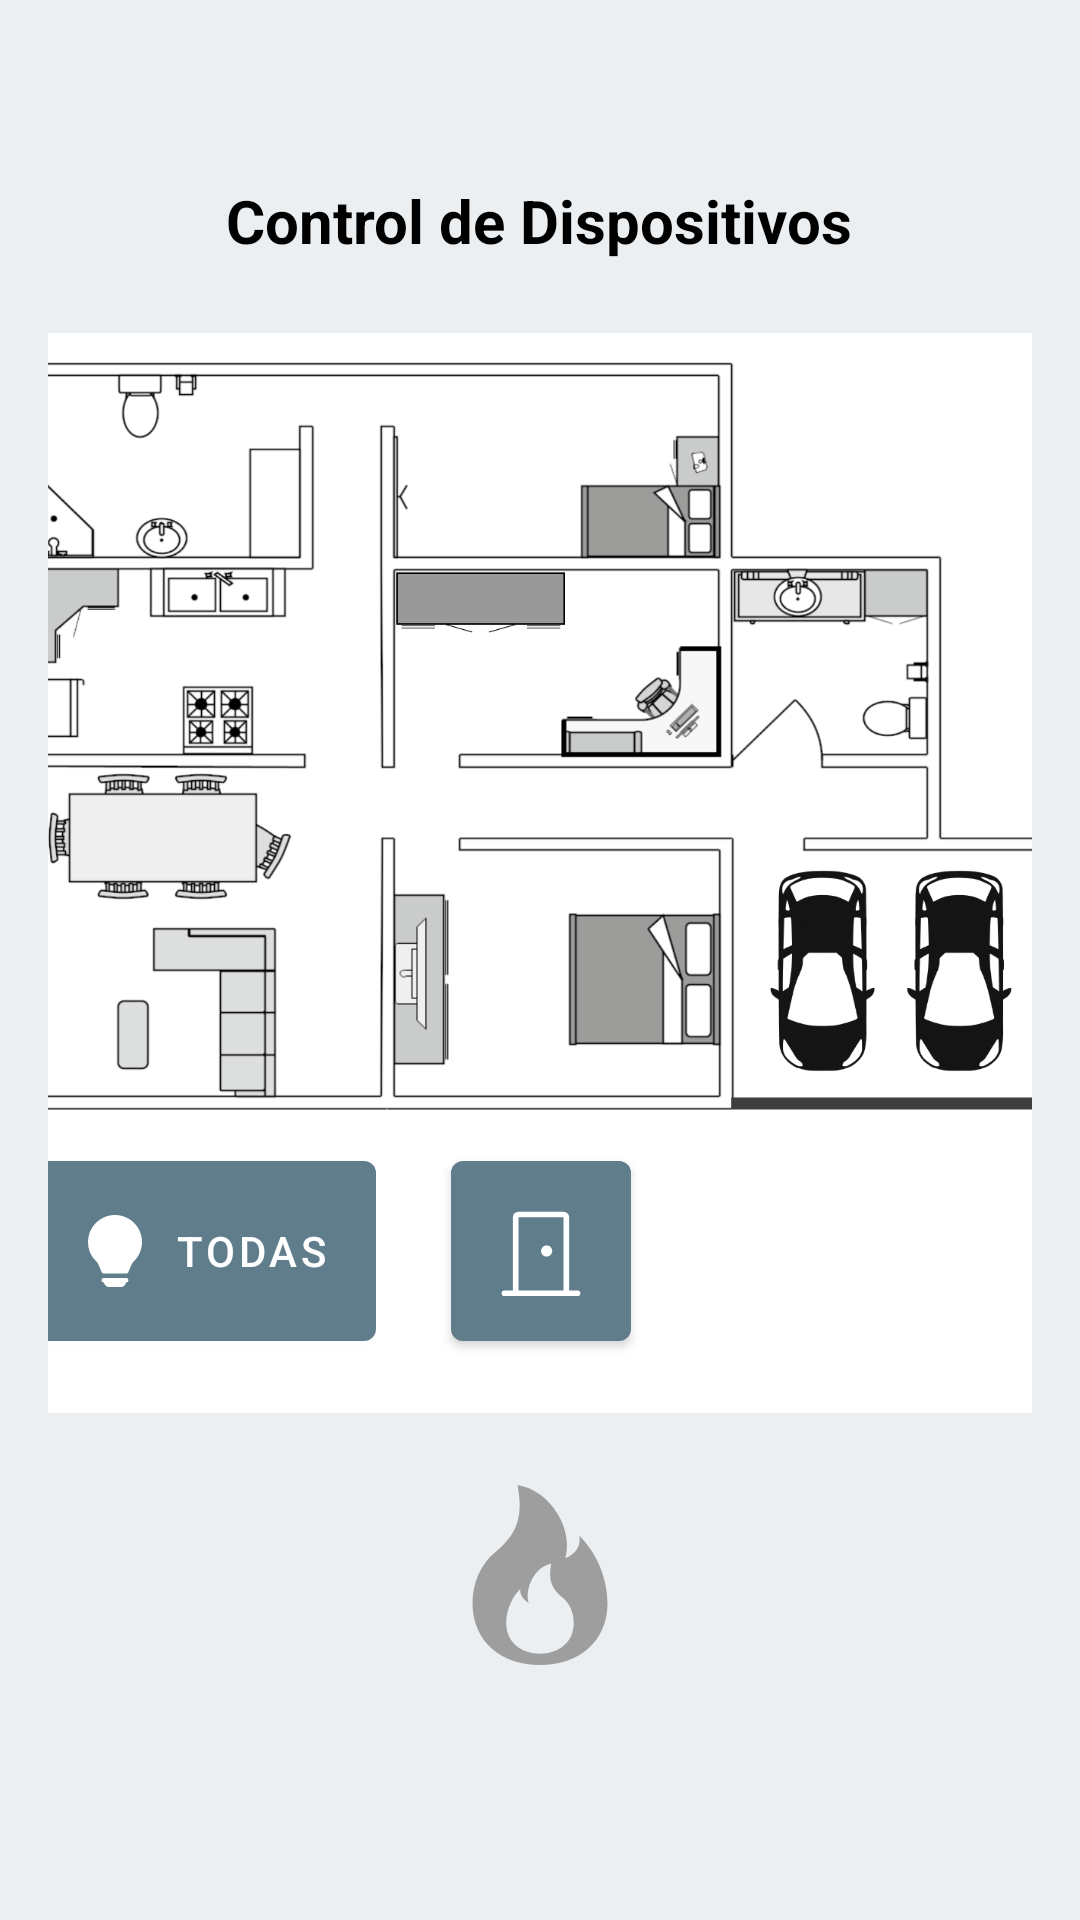

Locate icon controls on the screen. Image size 1080 × 1920, boxes as (x1,y1,x2,y2).
fire off: (472,1485,608,1665)
